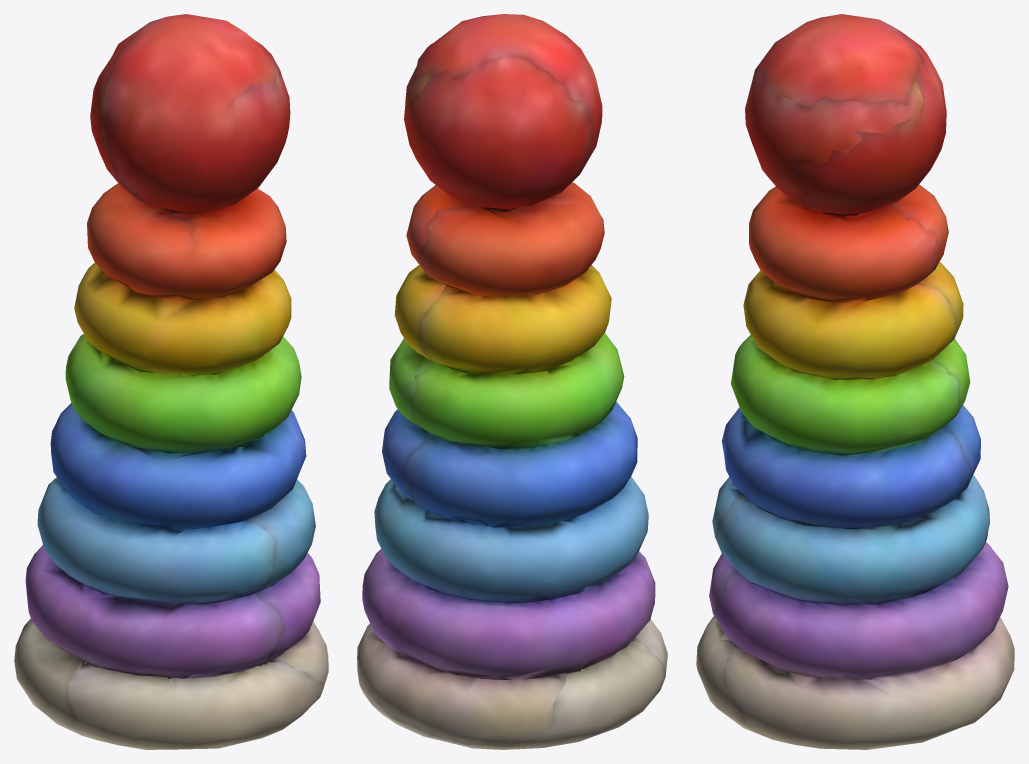
The model's file is STACKING_RING-medium.glb.
3 views of the same model, side by side, from view 1: azimuth 30°, elevation 25°; view 2: azimuth 150°, elevation 25°; view 3: azimuth 270°, elevation 25° (orthographic).
Visible parts, largest first — view 1: STACKING_RING; view 2: STACKING_RING; view 3: STACKING_RING.
Part boxes in pixels (x1,y1,x2,y2): STACKING_RING: [14, 14, 328, 749]; STACKING_RING: [357, 14, 667, 749]; STACKING_RING: [696, 14, 1014, 749].
Bounding box in the file's own units: 0.0785 × 0.1869 × 0.0796.
1 material, 1 textured.
